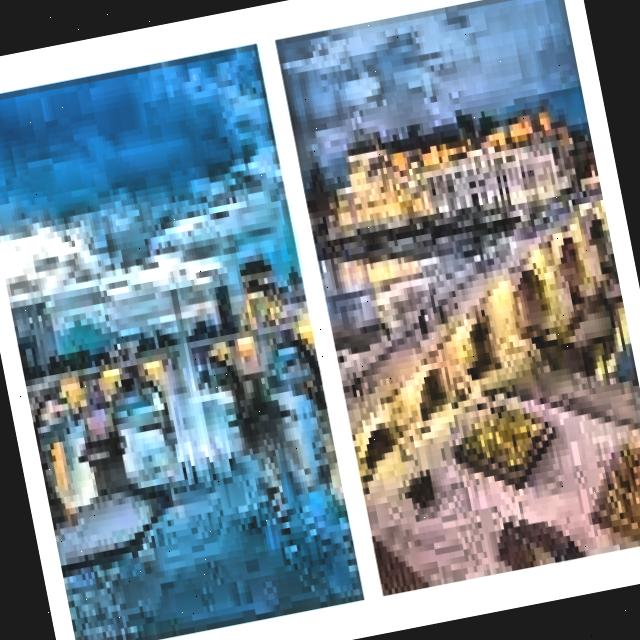stone bridge: (315, 185, 640, 470), (2, 304, 334, 488)
